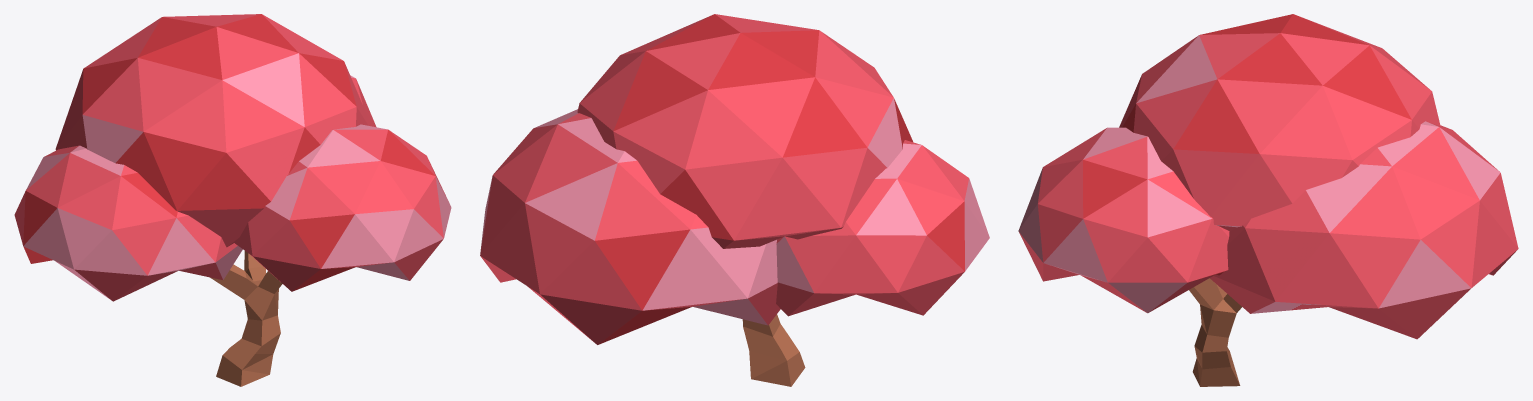
File: Tree_11_1.fbx
3 views of the same model, side by side, from view 1: azimuth 30°, elevation 25°; view 2: azimuth 150°, elevation 25°; view 3: azimuth 270°, elevation 25° (orthographic). The views are drawn at different scales.
Parts seen in each view (by area): view 1: Tree_11 top, Tree_11 trunk; view 2: Tree_11 top, Tree_11 trunk; view 3: Tree_11 top, Tree_11 trunk.
Boxes of the visible parts, <box> form: Tree_11 top: <box>14,14,451,369</box>; Tree_11 trunk: <box>216,354,273,386</box>; Tree_11 top: <box>480,14,989,360</box>; Tree_11 trunk: <box>749,350,805,386</box>; Tree_11 top: <box>1018,14,1518,369</box>; Tree_11 trunk: <box>1192,352,1240,386</box>.
Size of the model in its own units: 669 by 552 by 716.
